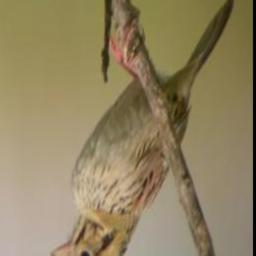Sparrow: (50, 0, 236, 256)
